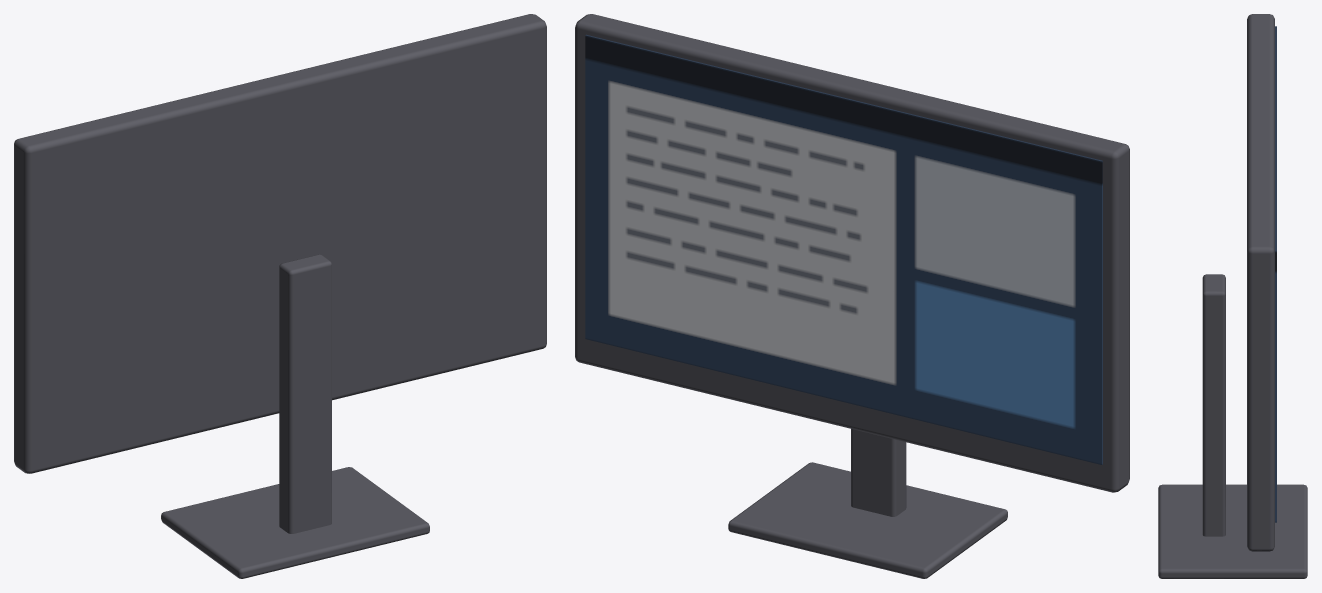
Rendered from trabajo.pantalla_extra.fbx.
3 renders of one model, left to right at view 1: azimuth 30°, elevation 25°; view 2: azimuth 150°, elevation 25°; view 3: azimuth 270°, elevation 25°, orthographic. The views are drawn at different scales.
Parts seen in each view (by area): view 1: Monitor, Base del monitor, Brazo del monitor; view 2: Pantalla, Monitor, Base del monitor, Brazo del monitor; view 3: Monitor, Base del monitor, Brazo del monitor, Pantalla.
Boxes of the visible parts, x1,y1,x2,y2 form: Monitor: (14, 14, 546, 473); Base del monitor: (161, 467, 429, 578); Brazo del monitor: (279, 254, 331, 533); Pantalla: (585, 34, 1102, 464); Monitor: (575, 14, 1129, 492); Base del monitor: (728, 462, 1007, 578); Brazo del monitor: (851, 429, 906, 516); Monitor: (1247, 14, 1274, 551); Base del monitor: (1158, 484, 1307, 578); Brazo del monitor: (1202, 274, 1225, 536); Pantalla: (1275, 26, 1276, 522).
Bounding box in the file's own units: 0.6 × 0.48 × 0.16.
Materials: 2 (1 with a texture image).
